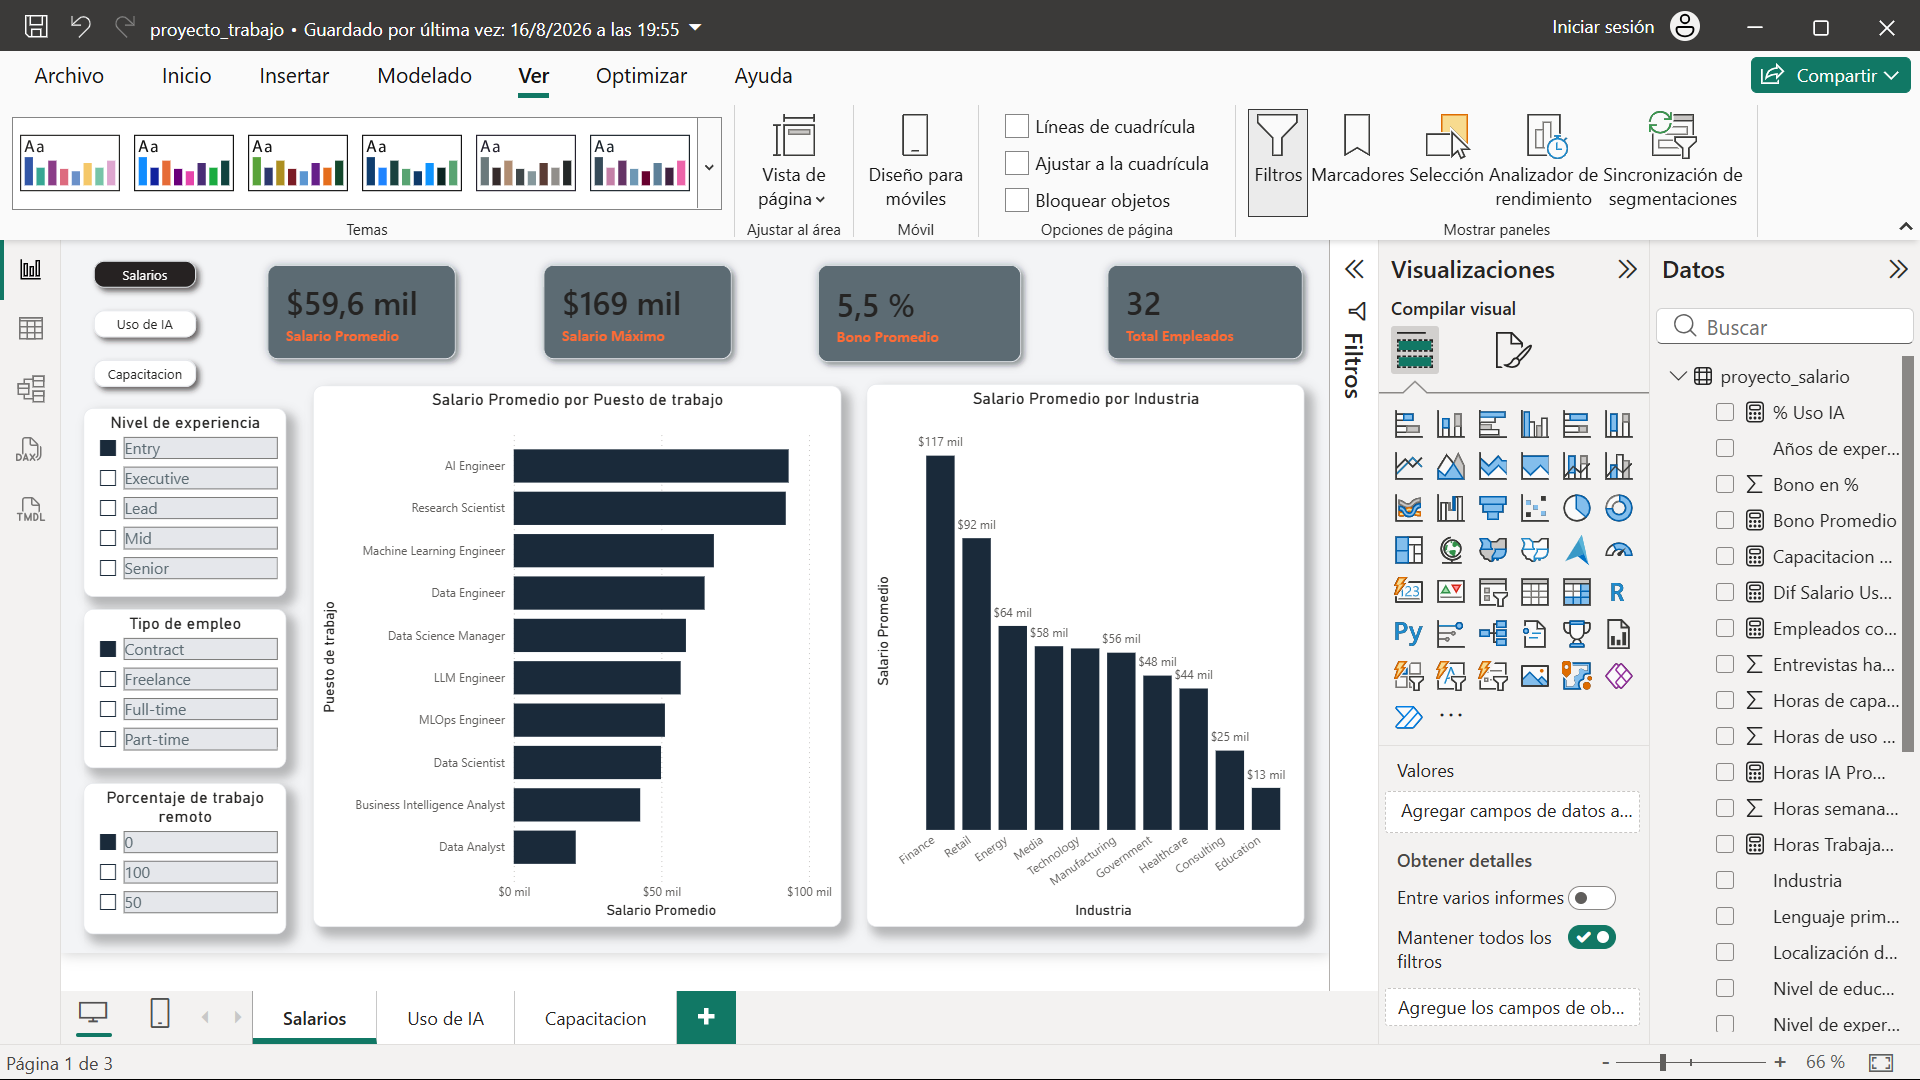

The page's visual inventory and layout, read from the dashboard file:
{"tool":"powerbi","page":{"name":"Salarios","canvas":[1280,720],"ordinal":0},"visuals":[{"type":"clusteredBarChart","title":"Salario Promedio por Puesto de trabajo","fields":{"Series":["ai_ds_job_salaries_2026.Nivel de experiencia"],"Category":["ai_ds_job_salaries_2026.Puesto de trabajo"],"Y":["proyecto_salario.Salario Promedio"]},"box":[254.4,146.9,533,546.6],"z":0},{"type":"columnChart","fields":{"Category":["ai_ds_job_salaries_2026.Industria"],"Y":["proyecto_salario.Salario Promedio"]},"box":[813.1,145.4,442.1,548.1],"z":1000},{"type":"cardVisual","fields":{"Data":["proyecto_salario.Salario Promedio"]},"box":[183.8,0,240.8,145.4],"z":2000},{"type":"cardVisual","title":"Salario Maximo","fields":{"Data":["proyecto_salario.Salario Maximo"]},"box":[461.5,0,240,145],"z":3000},{"type":"cardVisual","fields":{"Data":["proyecto_salario.Bono Promedio %"]},"box":[738.4,0,255.8,148.4],"z":4000},{"type":"cardVisual","fields":{"Data":["proyecto_salario.Total Empleados"]},"box":[1031.2,0,247.9,145.3],"z":5000},{"type":"slicer","title":"Nivel de experiencia","fields":{"Values":["proyecto_salario.Nivel de experiencia"]},"box":[22.7,169.6,204.4,190.8],"z":6000},{"type":"slicer","title":"Tipo de empleo","fields":{"Values":["proyecto_salario.Tipo de empleo "]},"box":[22.7,372.5,204.4,160.5],"z":7000},{"type":"slicer","title":"Porcentaje de trabajo remoto","fields":{"Values":["proyecto_salario.Porcentaje de trabajo remoto "]},"box":[22.7,548.1,204.4,152.9],"z":8000},{"type":"pageNavigator","box":[22.7,10.6,124.2,148.4],"z":9000}]}

Visuals, with their boxes on the page's 1280x720 design canvas (x1, y1, x2, y2). These are canvas units, not pixel positions in the 1920x1080 screenshot, which may show the page scaled, cropped or inside an application window:
"Salario Promedio por Puesto de trabajo" clusteredBarChart: box=[254, 147, 787, 694]
columnChart - ai_ds_job_salaries_2026.Industria x proyecto_salario.Salario Promedio: box=[813, 145, 1255, 694]
cardVisual - proyecto_salario.Salario Promedio: box=[184, 0, 425, 145]
"Salario Maximo" cardVisual: box=[462, 0, 702, 145]
cardVisual - proyecto_salario.Bono Promedio %: box=[738, 0, 994, 148]
cardVisual - proyecto_salario.Total Empleados: box=[1031, 0, 1279, 145]
"Nivel de experiencia" slicer: box=[23, 170, 227, 360]
"Tipo de empleo" slicer: box=[23, 372, 227, 533]
"Porcentaje de trabajo remoto" slicer: box=[23, 548, 227, 701]
pageNavigator: box=[23, 11, 147, 159]
